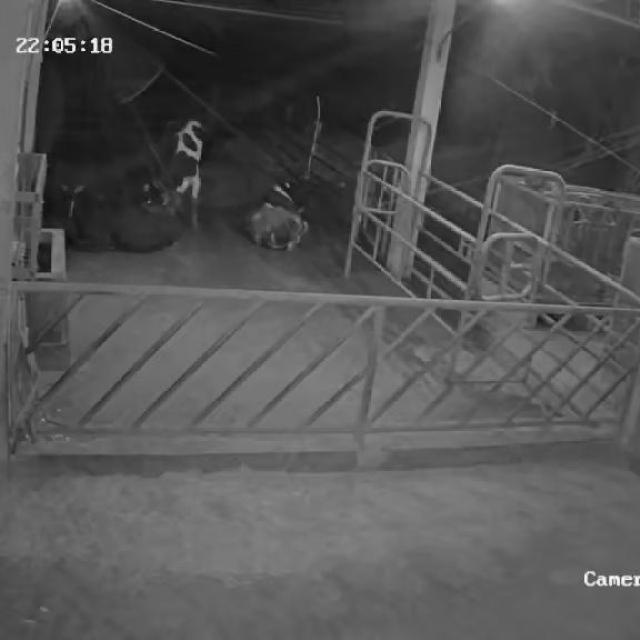lying down: (26, 170, 186, 260), (241, 171, 315, 259)
standing: (151, 111, 206, 221)
